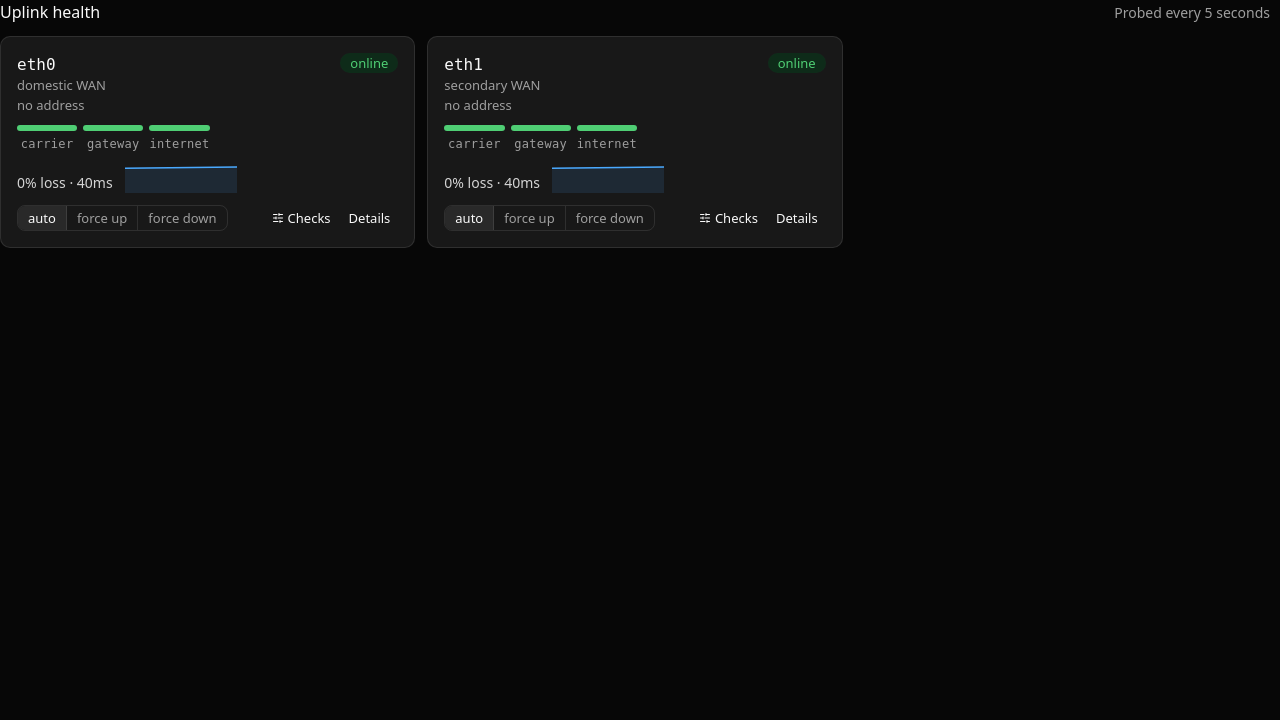
Scenario: HealthStrip › says what the override did › names the real consequence for the domestic uplink
Click the button "force down" below "domestic WAN": coordinates (182, 218) top-left (138, 206), bottom-right (227, 230)
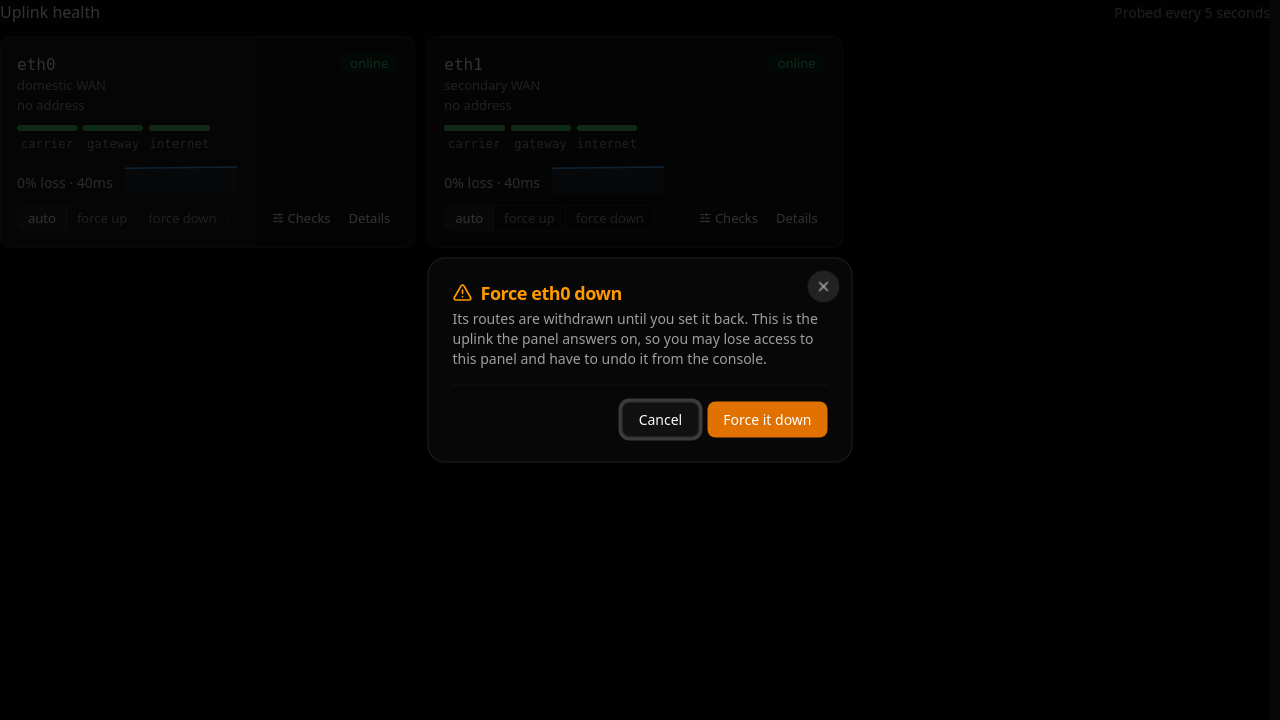
Expected: the text "lose access to this panel" is shown, top-left (452, 308), bottom-right (818, 368)
